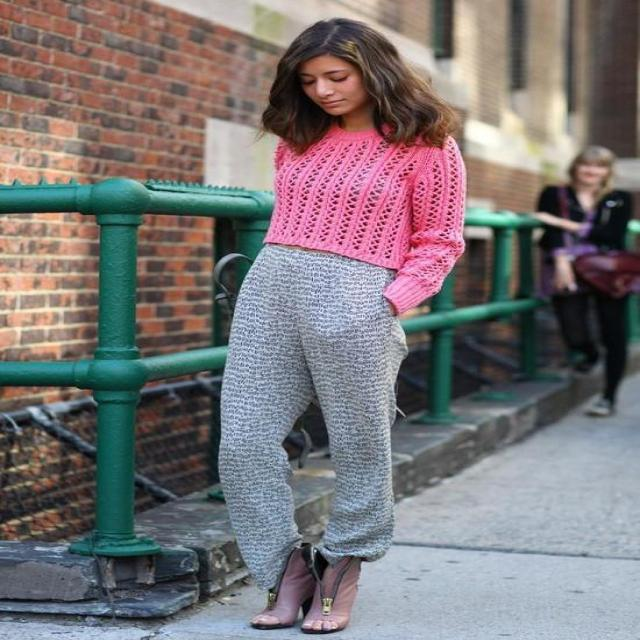pants: (217, 243, 413, 591)
sweater: (266, 117, 467, 314)
